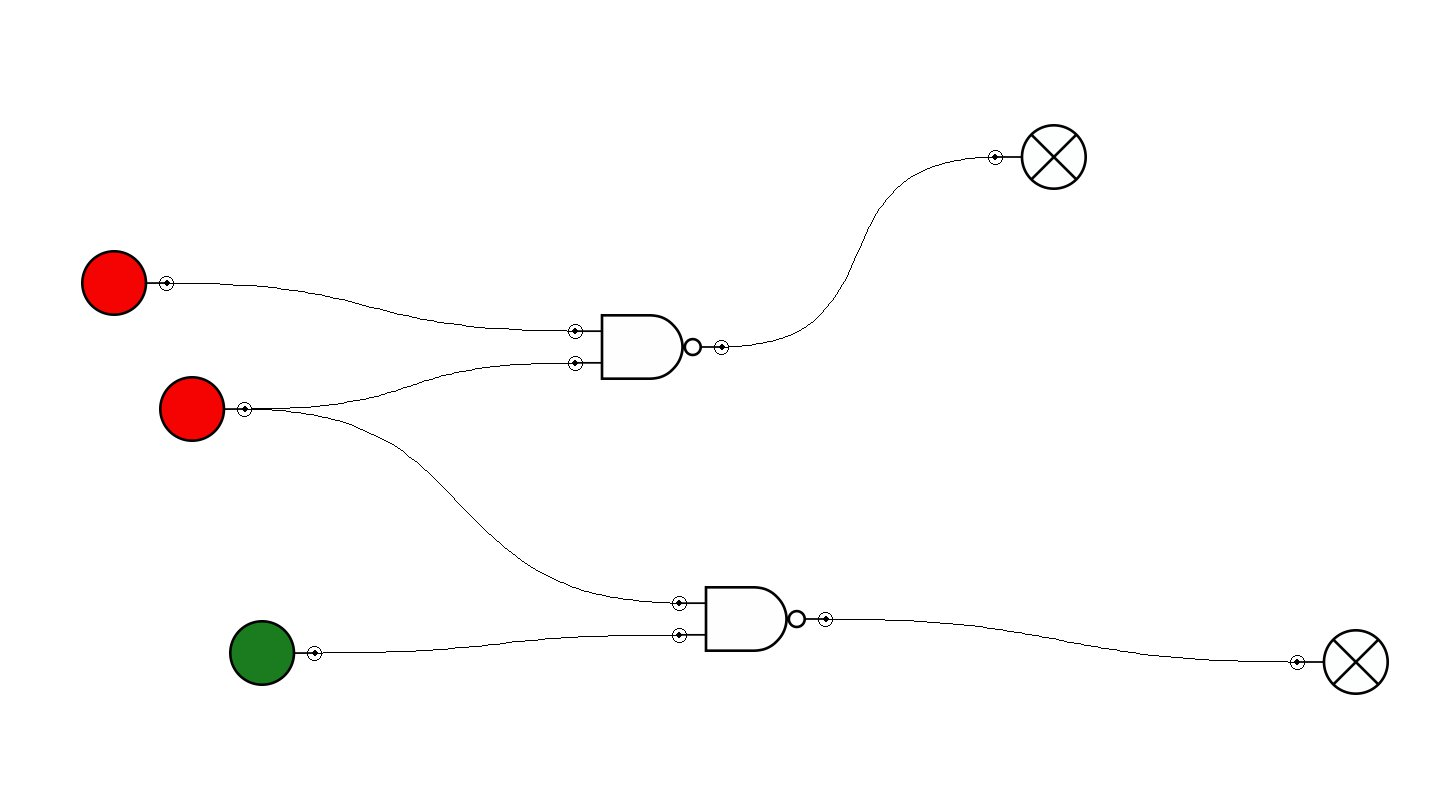bulb: (1290, 629, 1389, 695), (988, 124, 1087, 190)
nand: (672, 586, 833, 652), (568, 314, 729, 380)
switch_False: (159, 376, 252, 442), (81, 250, 174, 316)
switch_True: (229, 620, 322, 686)
